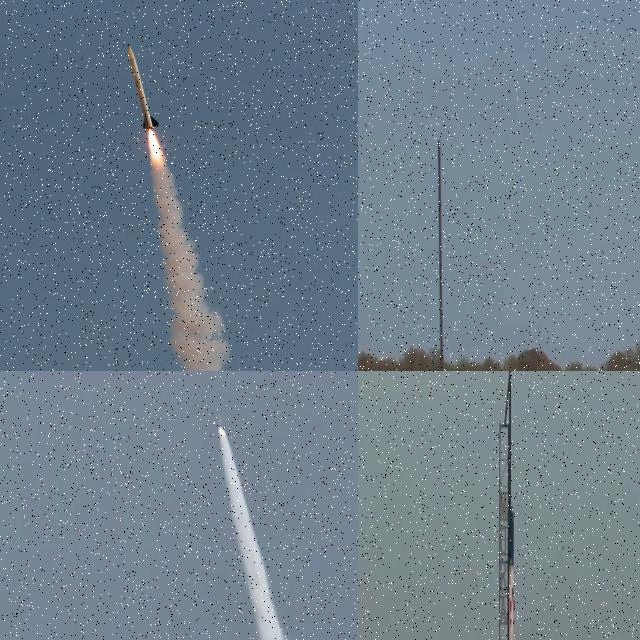Rocket: (126, 43, 160, 131), (502, 505, 521, 640), (217, 415, 224, 430)
